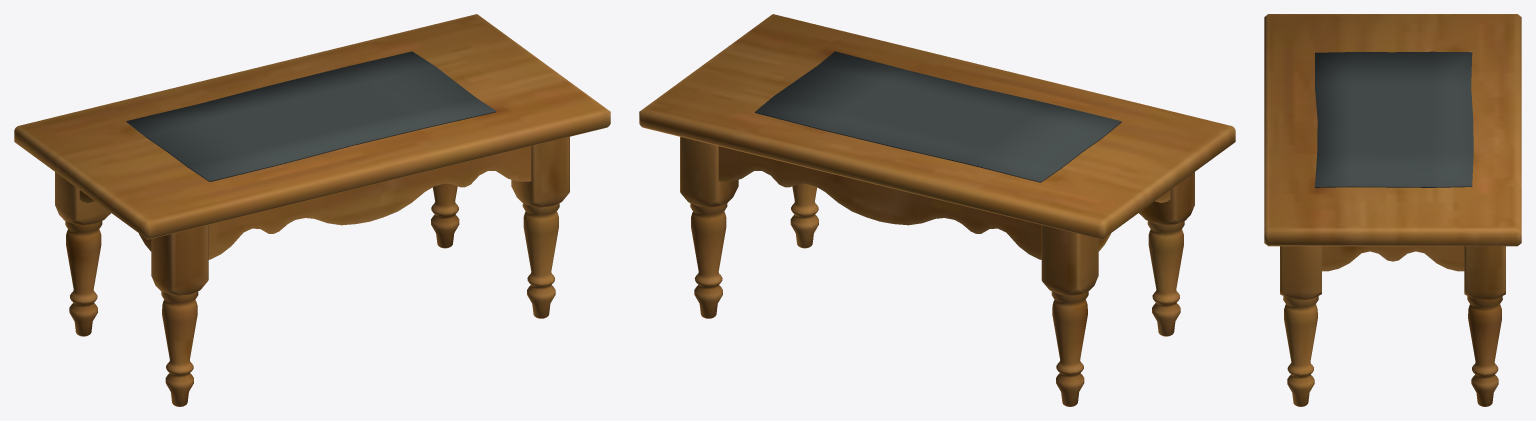
3 views of the same model, side by side, from view 1: azimuth 30°, elevation 25°; view 2: azimuth 150°, elevation 25°; view 3: azimuth 270°, elevation 25° (orthographic). The views are drawn at different scales.
Size of the model in its own units: 20 by 8.57 by 9.99.
2 materials, 2 textured.
